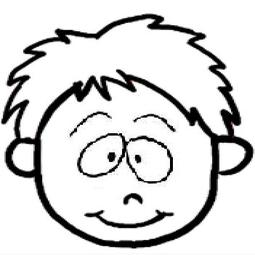ear: (0, 138, 46, 185), (207, 136, 255, 181)
eye: (78, 133, 128, 184), (126, 136, 176, 184)
eyebrow: (67, 109, 113, 137), (131, 112, 180, 133)
mouth: (82, 205, 175, 230)
nose: (117, 191, 149, 205)
